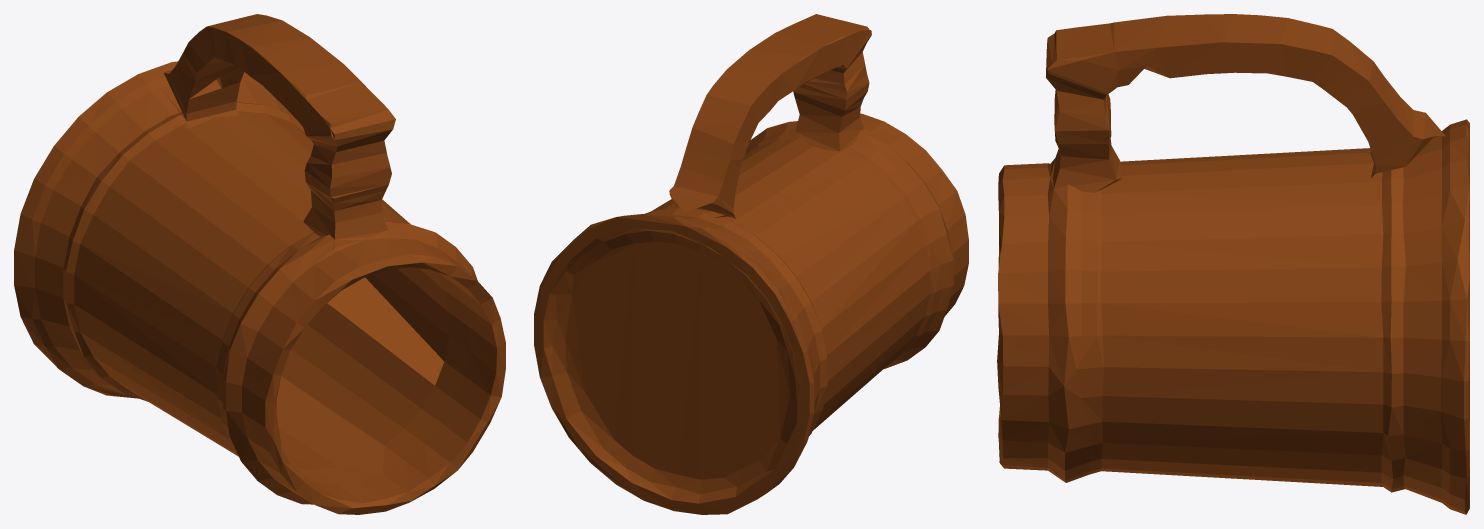
Rendered from model_align.obj.
3 renders of one model, left to right at view 1: azimuth 30°, elevation 25°; view 2: azimuth 150°, elevation 25°; view 3: azimuth 270°, elevation 25°, orthographic. The views are drawn at different scales.
Size of the model in its own units: 0.078 by 0.102 by 0.0933.
